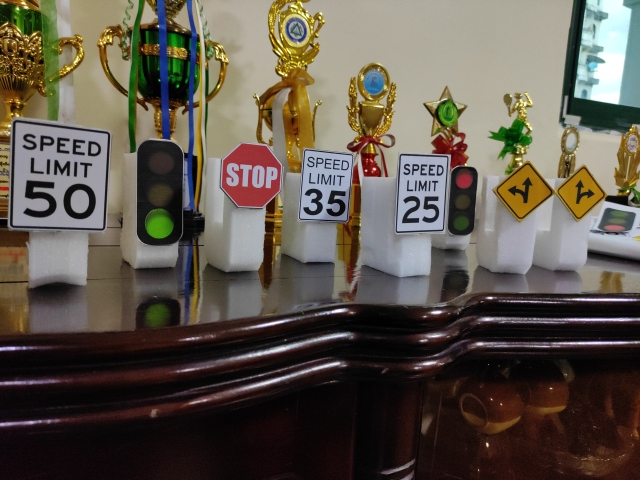Green Traffic Light: (136, 138, 185, 245)
Red Traffic Light: (449, 166, 477, 234)
Speed Limit 25: (395, 154, 448, 232)
Speed Limit 35: (300, 151, 352, 221)
Speed Limit 50: (11, 120, 110, 232)
Stop Sign: (219, 143, 284, 209)
Straight Or Left Sign: (495, 164, 552, 221)
Straight Or Right Sign: (556, 167, 607, 219)
